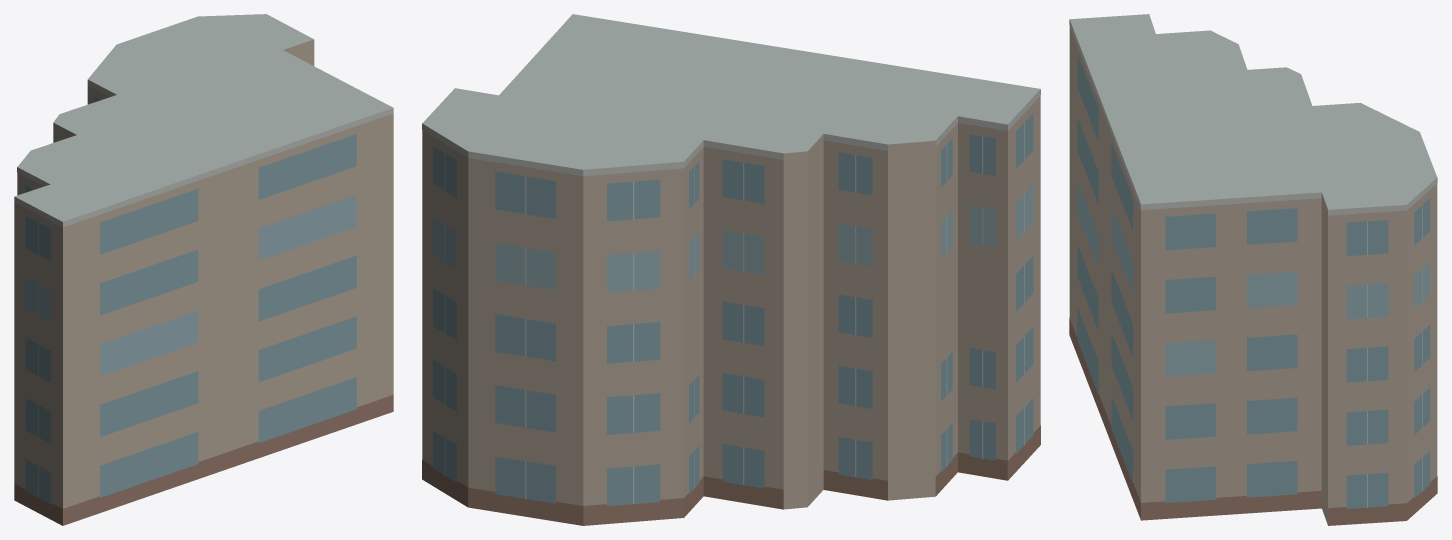
The model's file is survey-upis-32642519.glb.
The picture shows the model from 3 angles, left to right: view 1: azimuth 30°, elevation 25°; view 2: azimuth 150°, elevation 25°; view 3: azimuth 270°, elevation 25°; orthographic projection. The views are drawn at different scales.
Parts seen in each view (by area): view 1: survey-upis-32642519.tmp; view 2: survey-upis-32642519.tmp; view 3: survey-upis-32642519.tmp.
Part boxes in pixels (x1,y1,x2,y2): survey-upis-32642519.tmp: [14, 14, 393, 525]; survey-upis-32642519.tmp: [422, 14, 1040, 525]; survey-upis-32642519.tmp: [1069, 14, 1437, 525].
Size of the model in its own units: 17.69 by 13.3 by 14.04.
